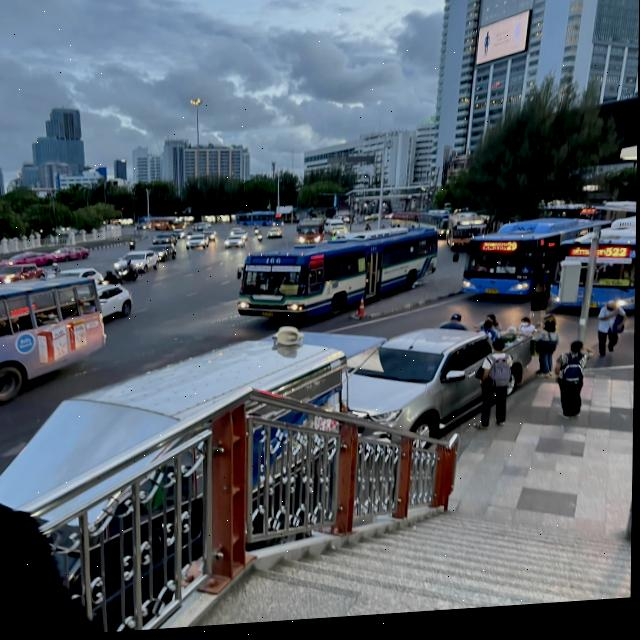BMTA-bus: (238, 229, 442, 330), (550, 223, 637, 323)
Bus-Line-Number: (606, 254, 629, 268), (265, 261, 285, 269)
Destination-Sign-Normal: (600, 286, 632, 297)
Destination-Sign-Normal-Expressway: (281, 288, 299, 300)
